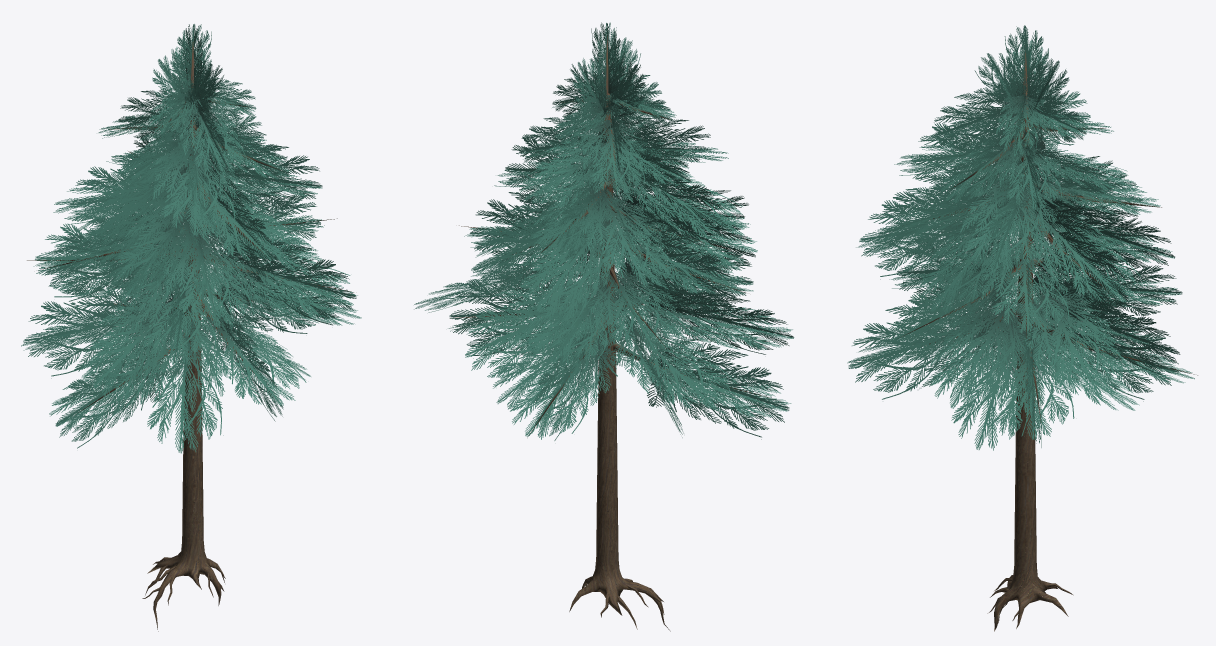
Rendered from BgMD_Tree_a.fbx.
The picture shows the model from 3 angles, left to right: view 1: azimuth 30°, elevation 25°; view 2: azimuth 150°, elevation 25°; view 3: azimuth 270°, elevation 25°; orthographic projection. The views are drawn at different scales.
Parts seen in each view (by area): view 1: leaf78; view 2: leaf78; view 3: leaf78.
Part boxes in pixels (bbox=[...]): leaf78: bbox=[21, 24, 361, 631]; leaf78: bbox=[414, 22, 794, 631]; leaf78: bbox=[847, 25, 1197, 631].
Size of the model in its own units: 1722 by 2924 by 1586.
